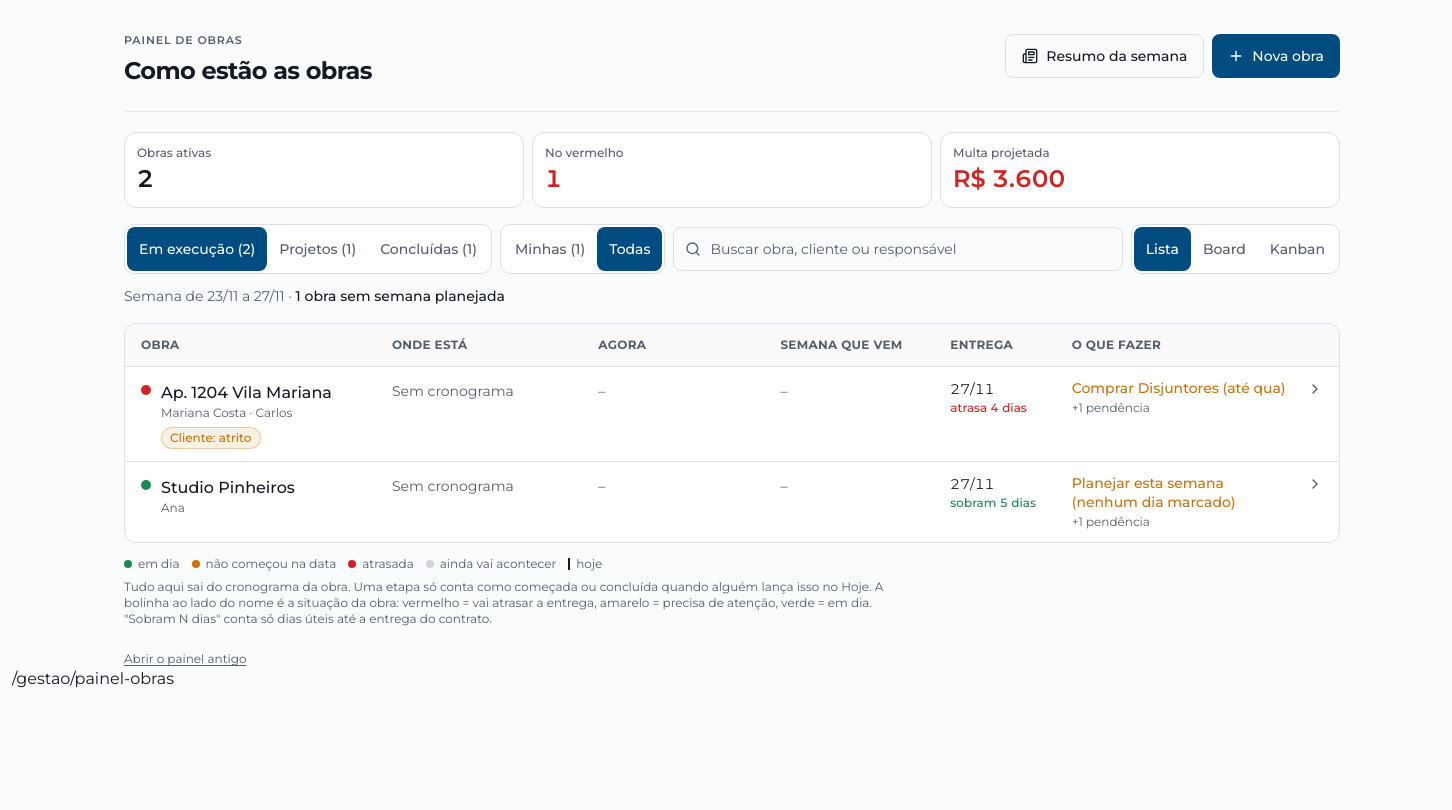
Painel de Obras reformulado › escritório › Projetos sem etapa registrada: etapa antiga e há quanto tempo está parado; sem a linha da semana
Click the radio button labelled "Projetos (1)" at (318, 248), box x1=267 y1=226 x2=368 y2=270
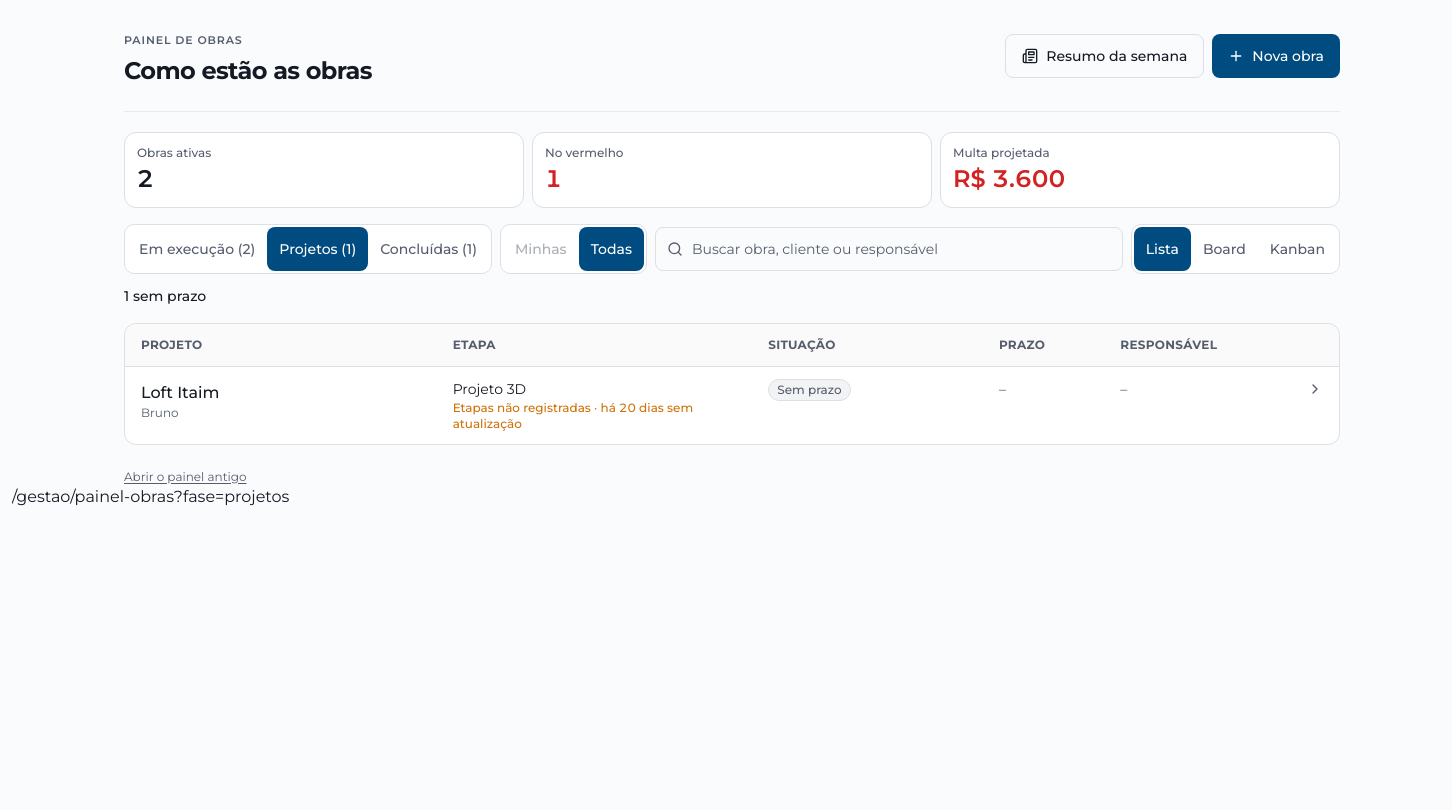
Expected: the text with test id "onde" shows "fase=projetos", x1=12 y1=486 x2=289 y2=506
Expected: the text "Projeto 3D" is shown, x1=453 y1=380 x2=526 y2=398
Expected: the text "Etapas não registradas · há 20 dias sem atualização" is shown, x1=453 y1=400 x2=693 y2=430
